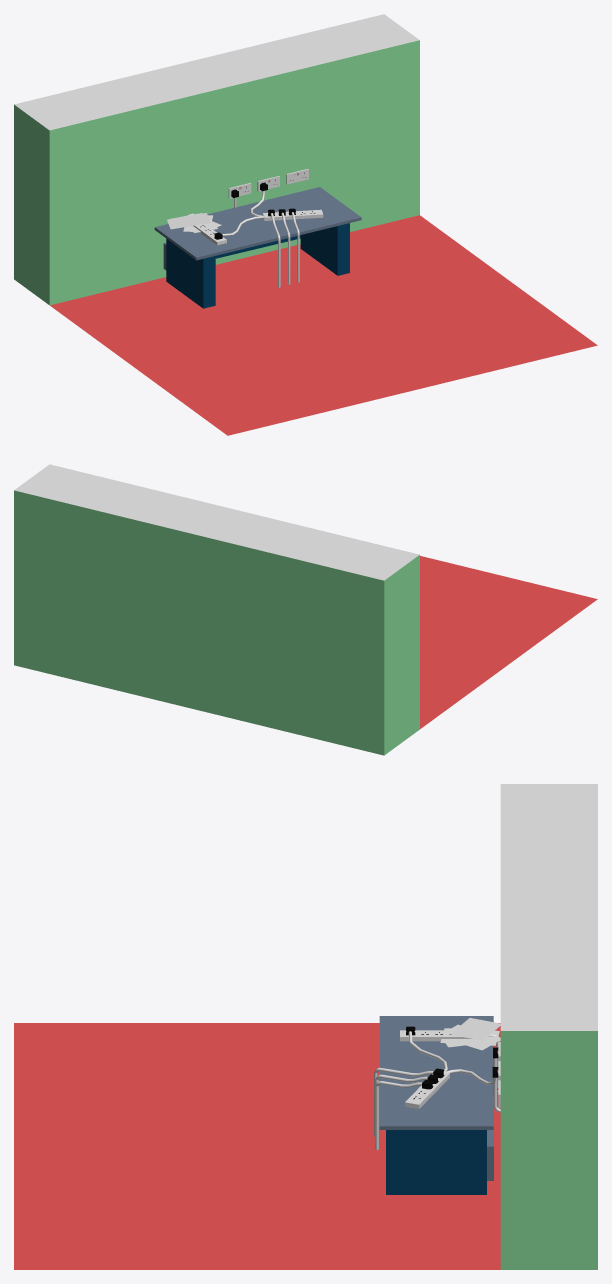
Rendered from Minigame-Socket.fbx.
The picture shows the model from 3 angles, top to bottom: view 1: azimuth 30°, elevation 25°; view 2: azimuth 150°, elevation 25°; view 3: azimuth 270°, elevation 25°; orthographic projection. The views are drawn at different scales.
Visible parts, largest first — view 1: prp_environment, itm_Paperstack; view 2: prp_environment; view 3: prp_environment, itm_Paperstack.
Boxes of the visible parts, bbox=[...] form: prp_environment: bbox=[14, 14, 597, 435]; itm_Paperstack: bbox=[167, 213, 221, 232]; prp_environment: bbox=[14, 464, 597, 755]; prp_environment: bbox=[14, 784, 597, 1269]; itm_Paperstack: bbox=[440, 1018, 500, 1050].
Size of the model in its own units: 15.34 by 6.92 by 15.34.
